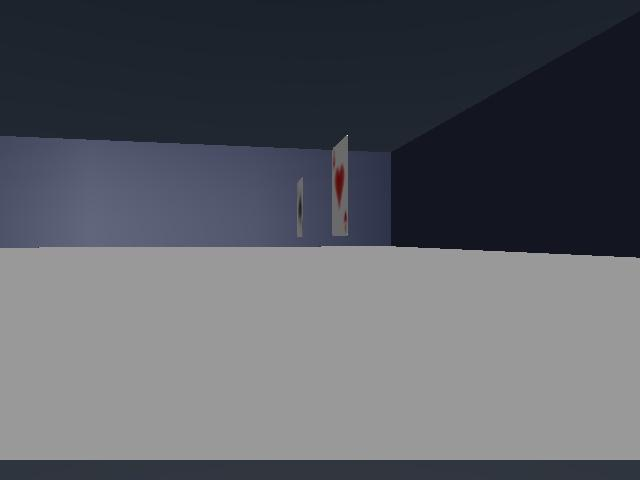club: (297, 178, 302, 236)
heart: (332, 135, 347, 235)
